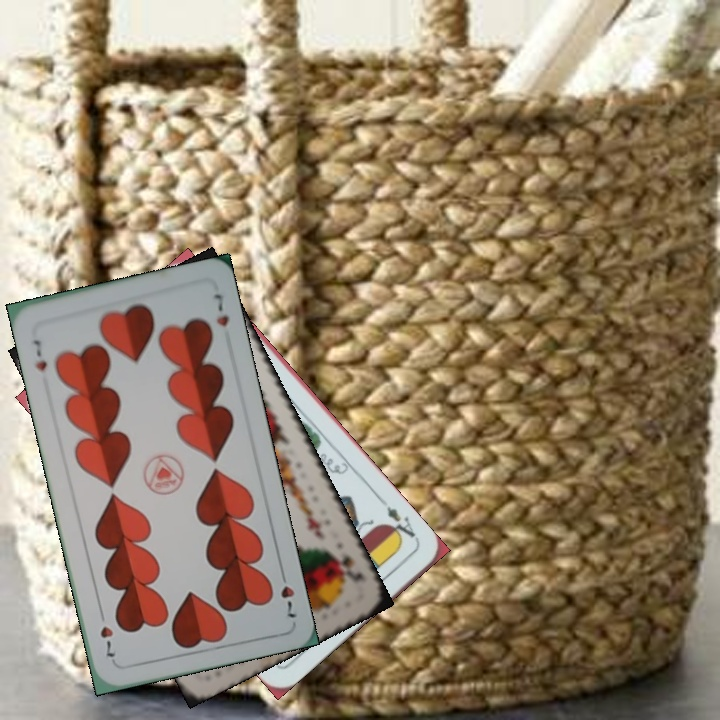EA: (377, 496, 422, 545)
H7: (276, 565, 299, 621), (29, 336, 50, 374)
SK: (327, 546, 367, 585)
